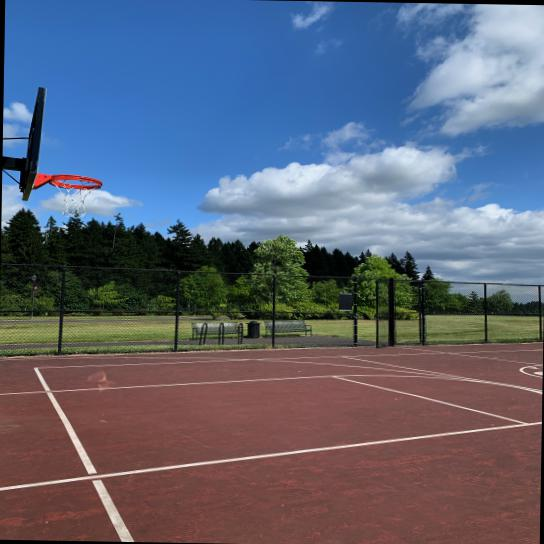basketball-hoop: (48, 172, 104, 219)
